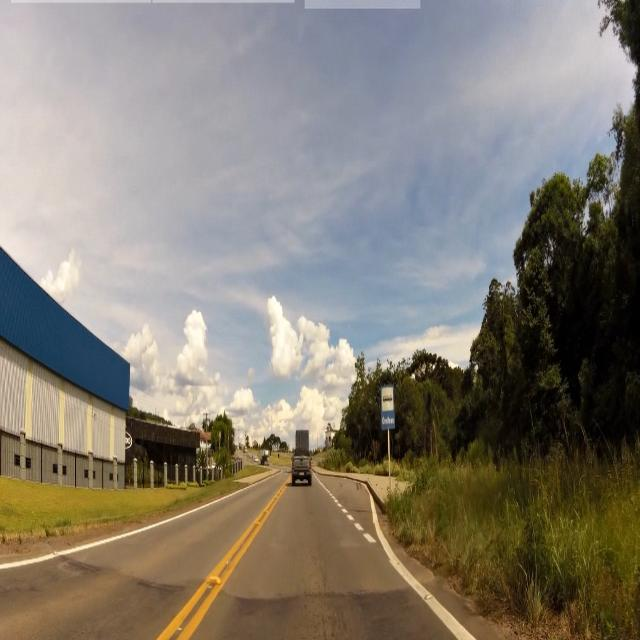S-14: (383, 387, 394, 426)
